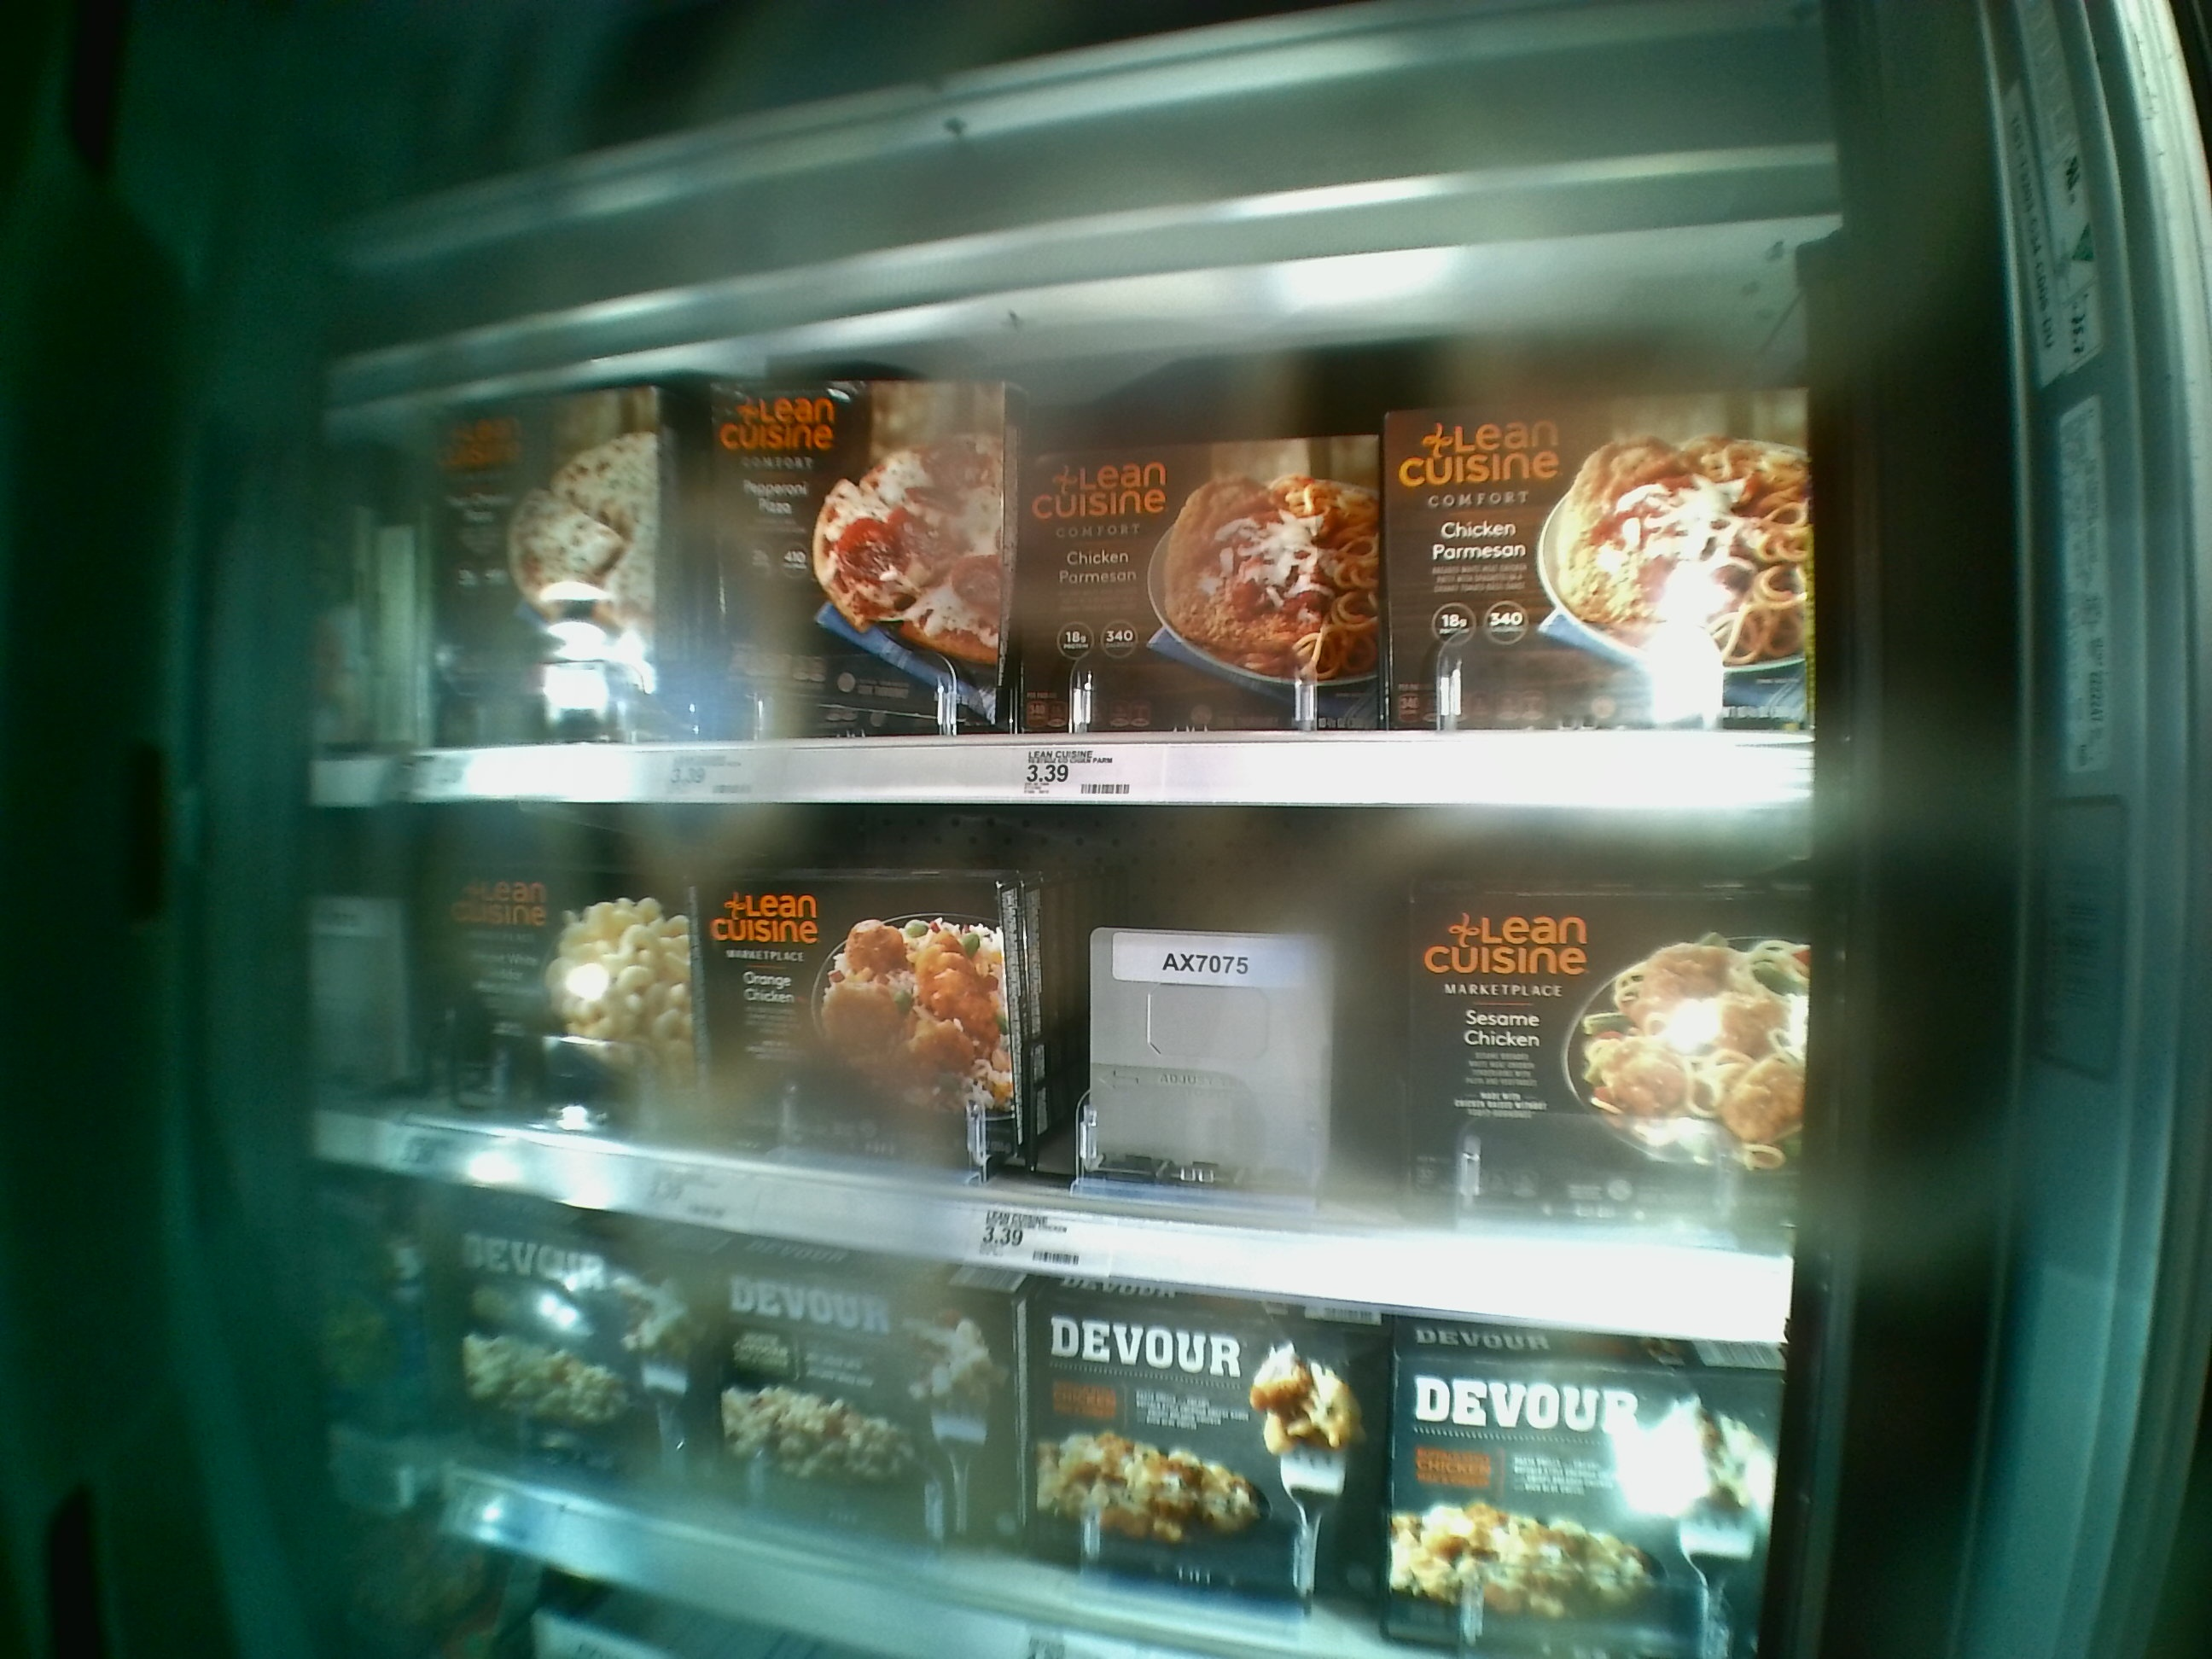Shelf: (298, 803, 1794, 1345), (296, 357, 1804, 802)
